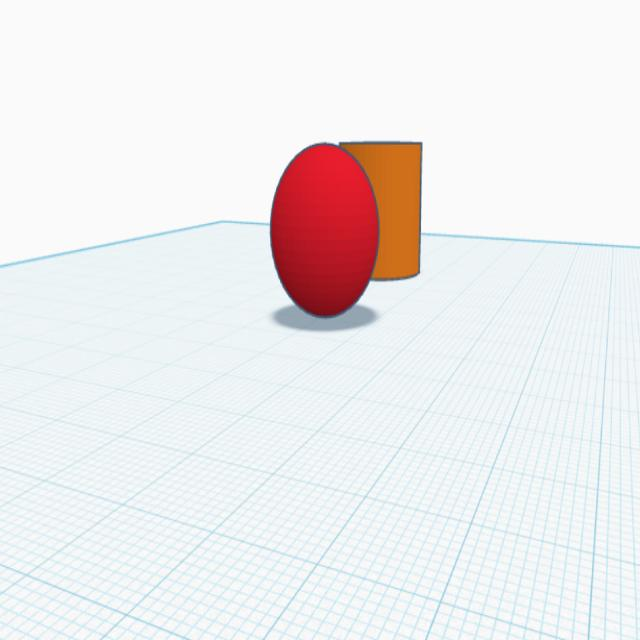sphere: (267, 135, 381, 324)
